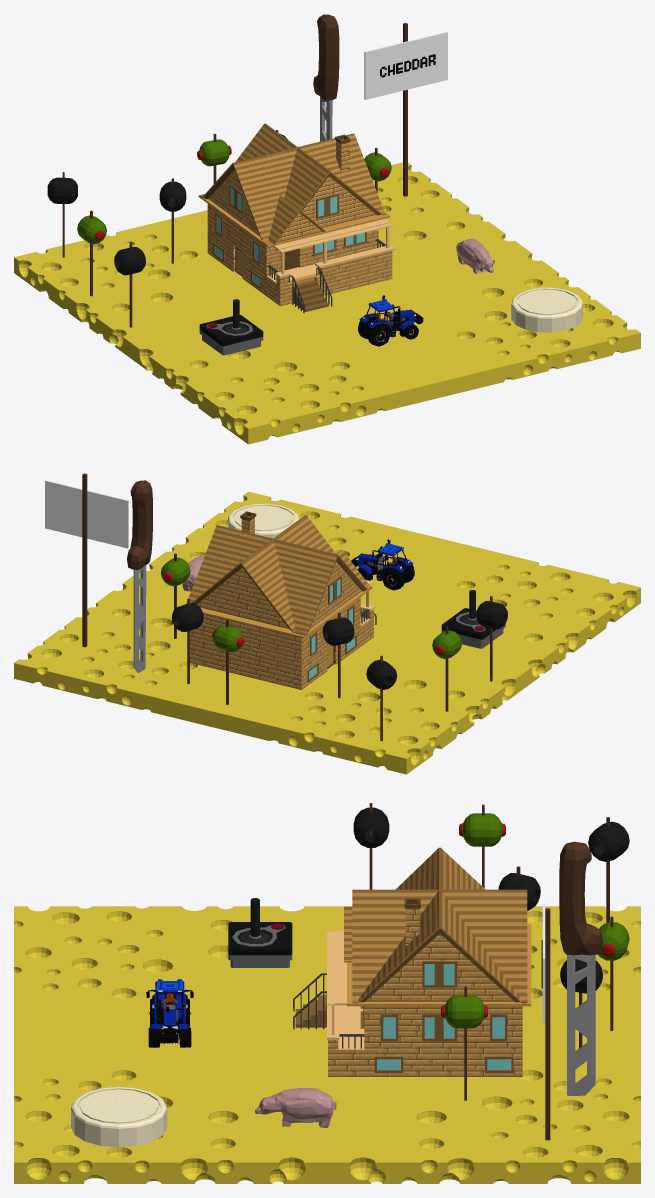
The picture shows the model from 3 angles, top to bottom: view 1: azimuth 30°, elevation 25°; view 2: azimuth 150°, elevation 25°; view 3: azimuth 270°, elevation 25°; orthographic projection. The views are drawn at different scales.
Parts seen in each view (by area): view 1: Cube.022, Cube.508, Cube.023, Cylinder.016, Cube.024, OBJRANDOM_JOYSTICK, VEHICLES_TRACTOR, Sphere.017, ANIMAL_HIPOPOTAMO, Sphere.016, Sphere.020, Sphere.018 (+2 smaller); view 2: Cube.022, Cube.508, Cube.023, Cube.024, VEHICLES_TRACTOR, Cylinder.016, OBJRANDOM_JOYSTICK, Sphere.017, Sphere.020, Sphere.021, Sphere.016, Sphere.018 (+2 smaller); view 3: Cube.022, Cube.508, Cube.024, Cylinder.016, OBJRANDOM_JOYSTICK, VEHICLES_TRACTOR, ANIMAL_HIPOPOTAMO, Cube.023, Sphere.019, Sphere.016, Sphere.018, Sphere.017 (+3 smaller).
Part boxes in pixels (x1,y1,x2,y2): Cube.022: (14,162,640,444); Cube.508: (198,123,395,313); Cube.023: (364,23,447,196); Cylinder.016: (511,287,582,332); Cube.024: (313,14,339,141); OBJRANDOM_JOYSTICK: (199,299,263,355); VEHICLES_TRACTOR: (358,295,423,346); Sphere.017: (114,242,145,327); ANIMAL_HIPOPOTAMO: (456,238,494,273); Sphere.016: (47,172,77,257); Sphere.020: (159,178,186,263); Sphere.018: (77,210,106,296); Cube.022: (14,491,640,774); Cube.508: (185,511,376,689); Cube.023: (45,473,128,647); Cube.024: (127,480,152,672); VEHICLES_TRACTOR: (351,539,414,590); Cylinder.016: (228,503,298,538); OBJRANDOM_JOYSTICK: (441,590,505,648); Sphere.017: (476,596,507,681); Sphere.020: (322,612,354,698); Sphere.021: (171,598,203,683); Sphere.016: (366,655,397,741); Sphere.018: (432,626,461,711); Cube.022: (14,906,640,1183); Cube.508: (293,847,531,1076); Cube.024: (559,841,602,1095); Cylinder.016: (71,1086,167,1147); OBJRANDOM_JOYSTICK: (228,898,292,967); VEHICLES_TRACTOR: (146,979,193,1047); ANIMAL_HIPOPOTAMO: (255,1088,336,1127); Cube.023: (541,904,550,1140); Sphere.019: (441,986,487,1100); Sphere.016: (588,817,629,922); Sphere.018: (459,804,505,887); Sphere.017: (353,803,389,889).
Size of the model in its own units: 3917 by 2030 by 4000.
Materials: 38 (5 with a texture image).
